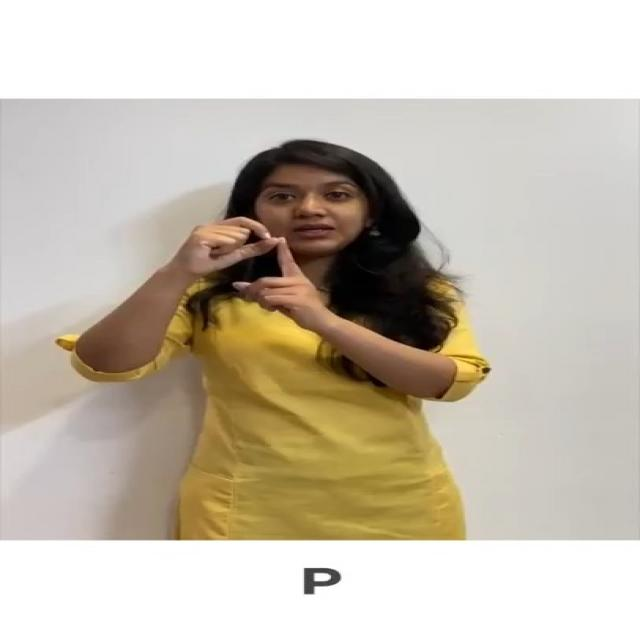P: (164, 214, 336, 333)
